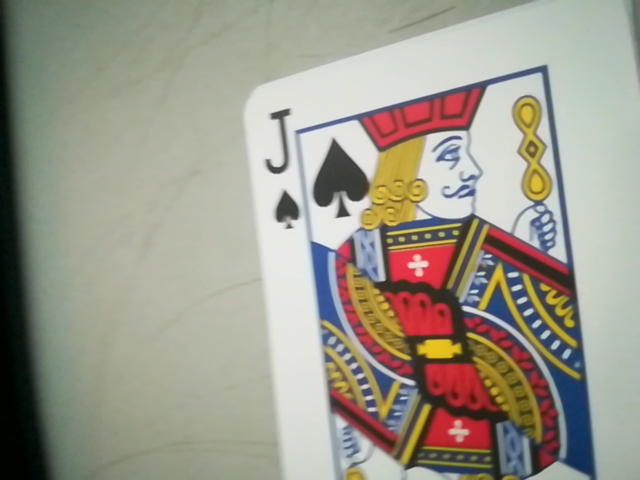ht j: (252, 102, 309, 238)
